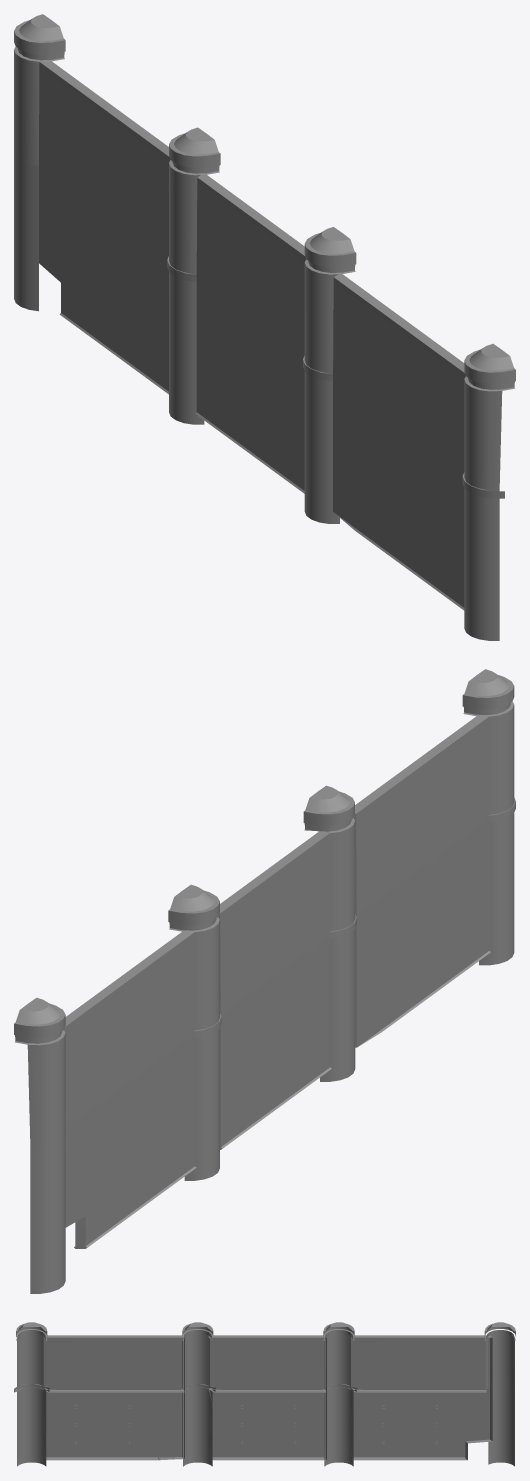
Rendered from BarreiraCidade.fbx.
The picture shows the model from 3 angles, top to bottom: view 1: azimuth 30°, elevation 25°; view 2: azimuth 150°, elevation 25°; view 3: azimuth 270°, elevation 25°; orthographic projection. The views are drawn at different scales.
Visible parts, largest first — view 1: GrandeBarragemDeAgua.001; view 2: GrandeBarragemDeAgua.001; view 3: GrandeBarragemDeAgua.001.
Boxes of the visible parts, x1,y1,x2,y2 form: GrandeBarragemDeAgua.001: (14,14,515,640); GrandeBarragemDeAgua.001: (14,669,515,1293); GrandeBarragemDeAgua.001: (14,1322,515,1466).
Bounding box in the file's own units: 1419 × 10992 × 34722.
